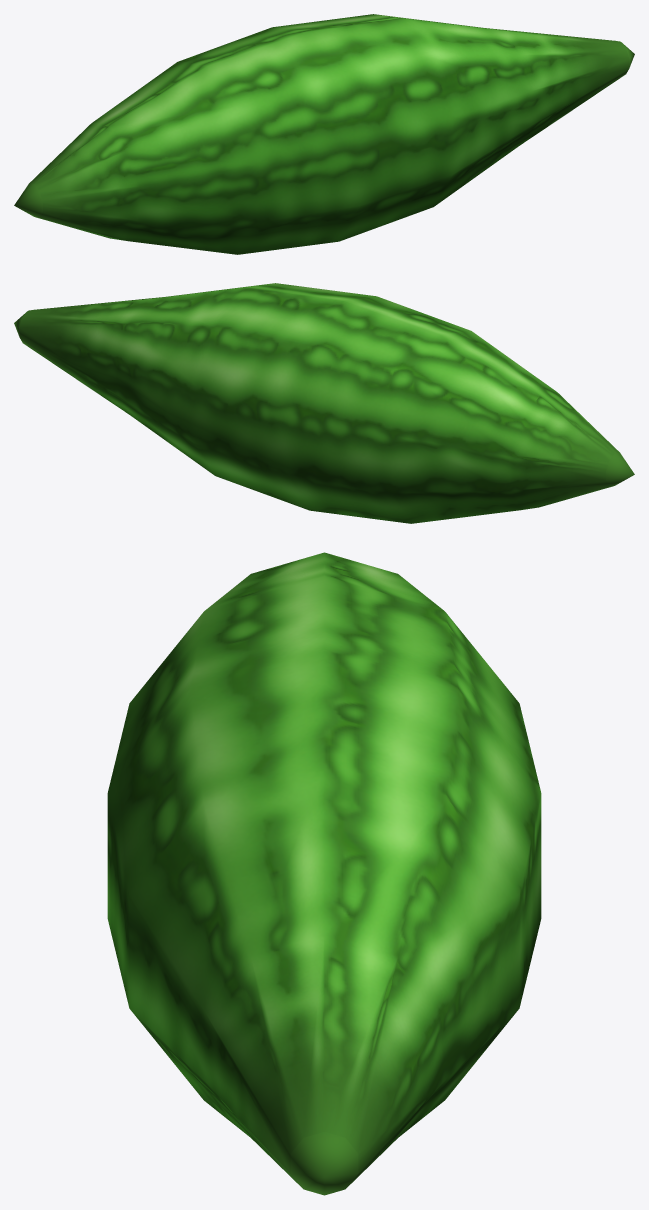
The model's file is Bitter_Melon.fbx.
The picture shows the model from 3 angles, top to bottom: view 1: azimuth 30°, elevation 25°; view 2: azimuth 150°, elevation 25°; view 3: azimuth 270°, elevation 25°; orthographic projection. The views are drawn at different scales.
Parts seen in each view (by area): view 1: Bitter_Melon; view 2: Bitter_Melon; view 3: Bitter_Melon.
Boxes of the visible parts, x1,y1,x2,y2 form: Bitter_Melon: [14, 14, 634, 254]; Bitter_Melon: [14, 283, 634, 523]; Bitter_Melon: [107, 552, 541, 1195].
Size of the model in its own units: 100 by 31.53 by 30.3.
